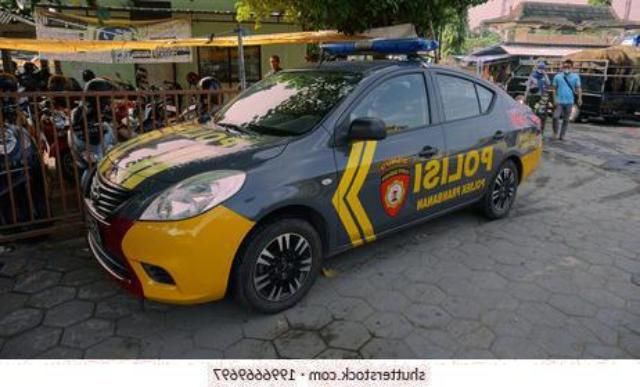police_car: (86, 39, 544, 308)
